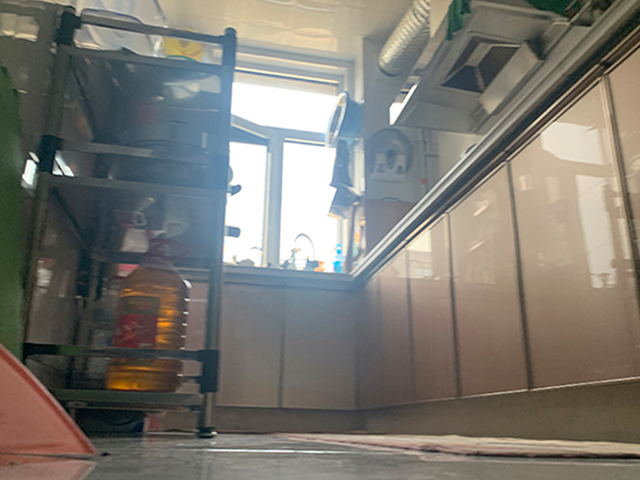cabinet: (367, 141, 640, 442), (226, 267, 358, 435)
carpet: (269, 428, 640, 460)
